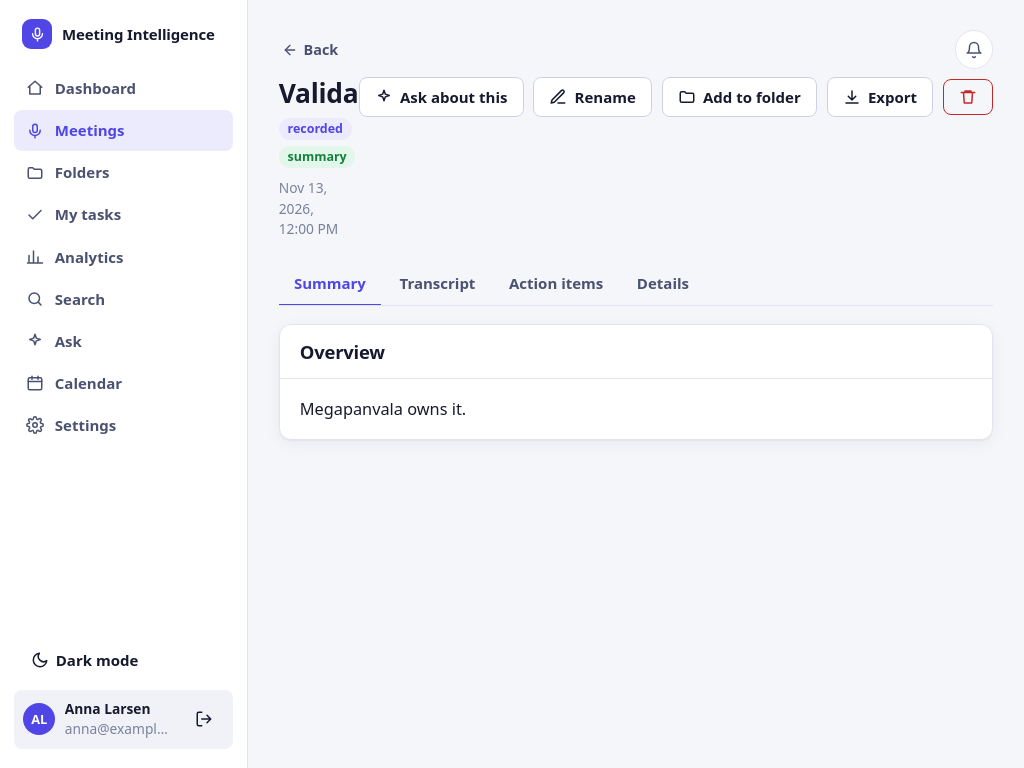
correcting the transcript › Escape cancels without saving, and an empty line is refused
This screenshot has width=1024, height=768.
Click the tab "Transcript" at (437,284), box x1=384 y1=262 x2=491 y2=306
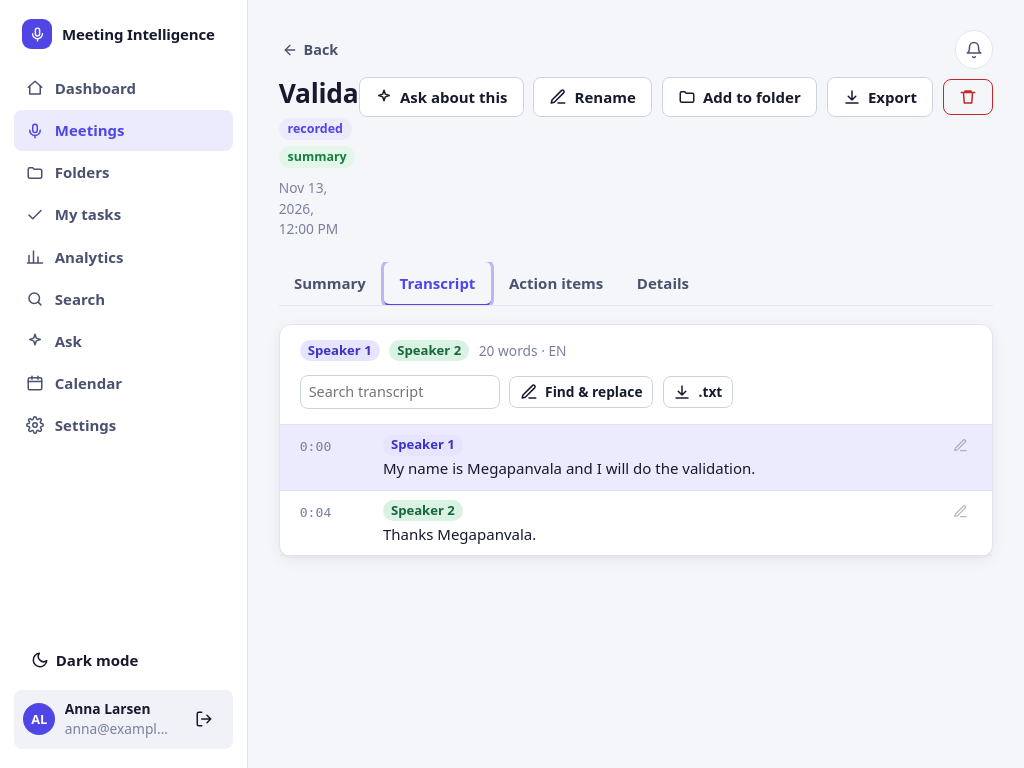
Result: the text "My name is Megapanvala and I will do the validation." is shown at x1=383 y1=458 x2=755 y2=478
Click the button named "Edit 0:00" at (961,446), box x1=949 y1=434 x2=972 y2=457
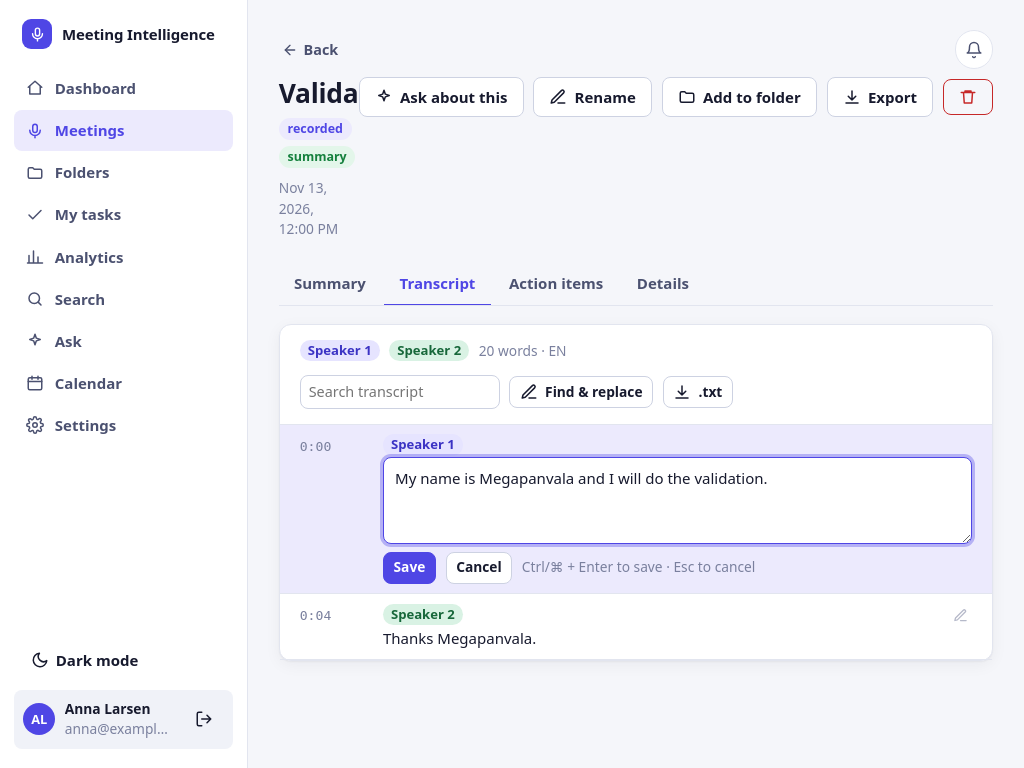
Type " extra" into the text box named "Transcript text" at (678,501), box x1=383 y1=457 x2=972 y2=544
Then press Escape
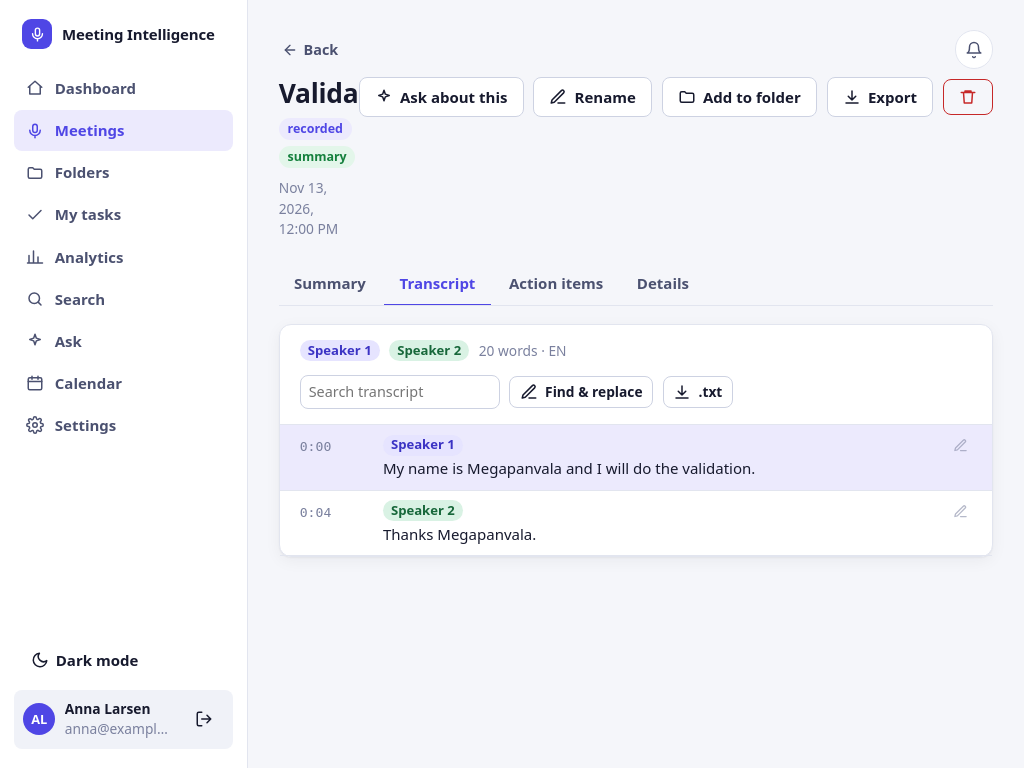
Result: the text "My name is Megapanvala and I will do the validation." is shown at x1=383 y1=458 x2=755 y2=478
Click the button named "Edit 0:00" at (961,446), box x1=949 y1=434 x2=972 y2=457
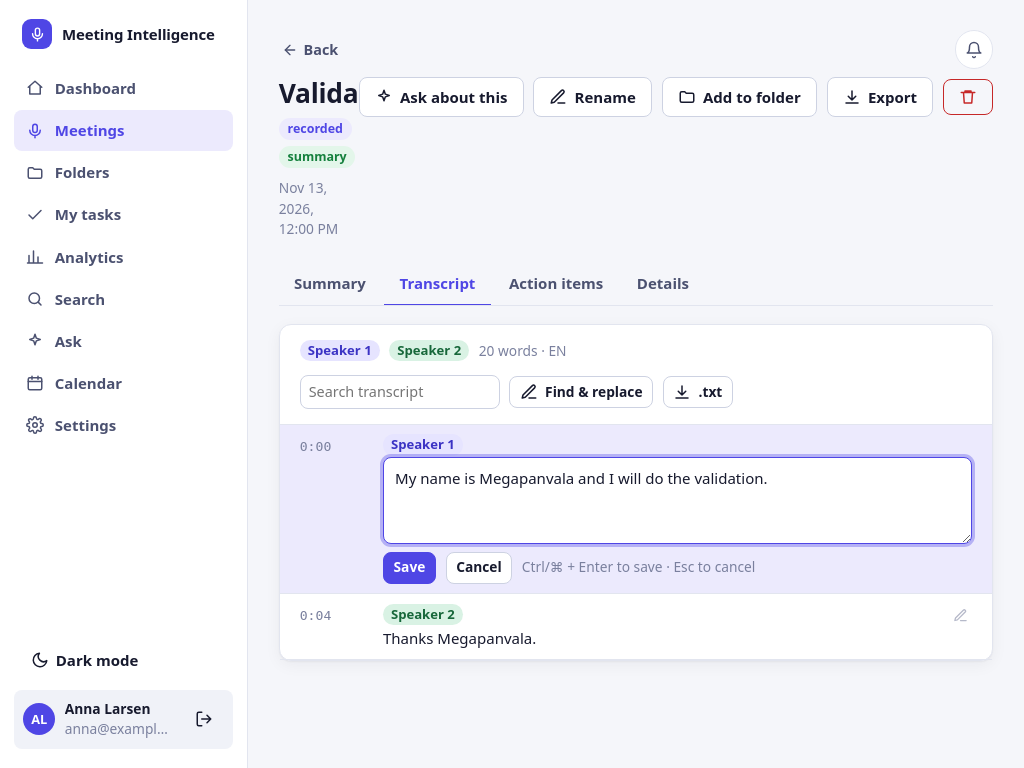
Clear the text box named "Transcript text" at (678,501), box x1=383 y1=457 x2=972 y2=544
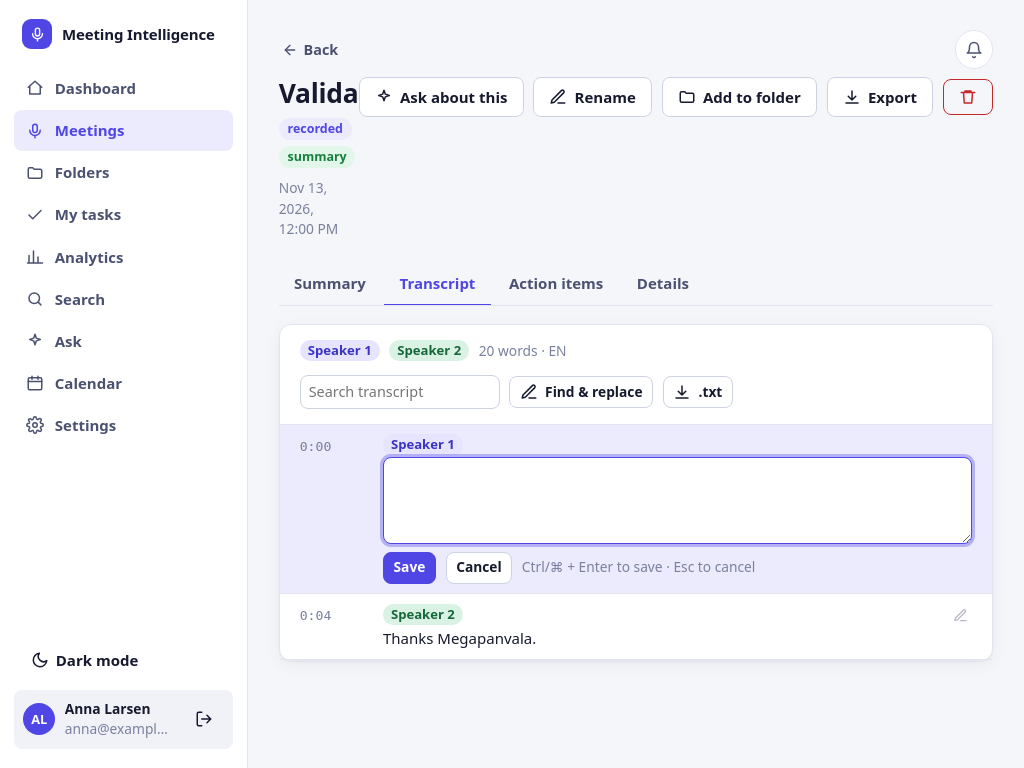
Click the button "Save" at (409,568), box x1=383 y1=552 x2=436 y2=584
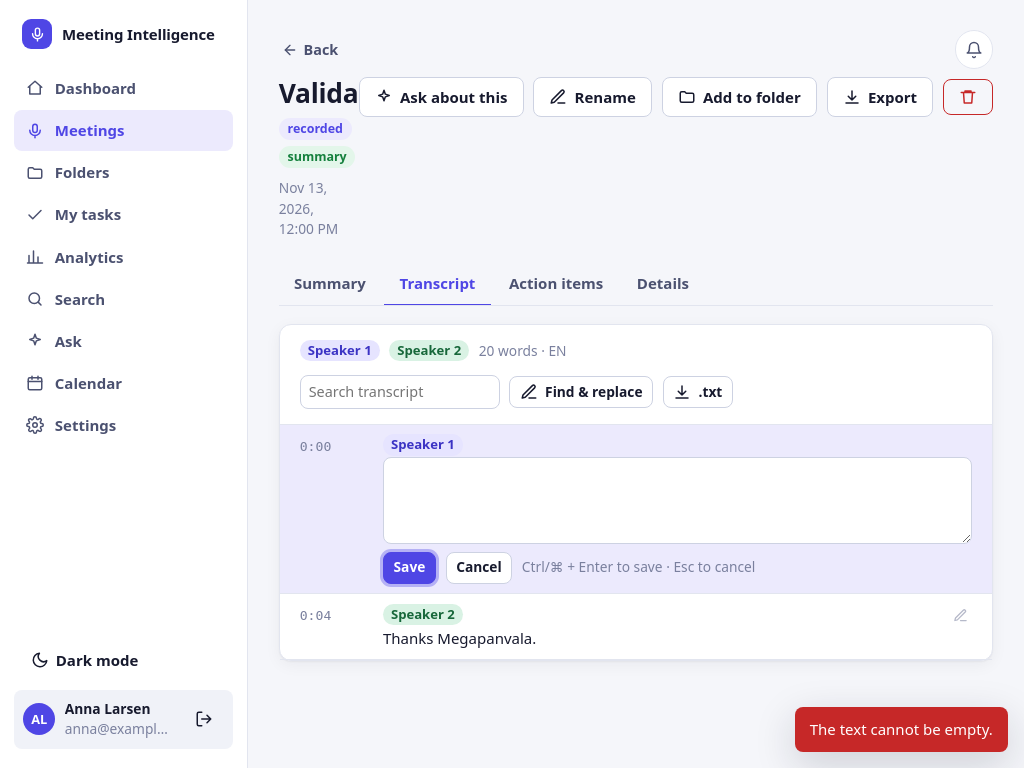
Result: the text "The text cannot be empty." is shown at x1=794 y1=707 x2=1008 y2=752
